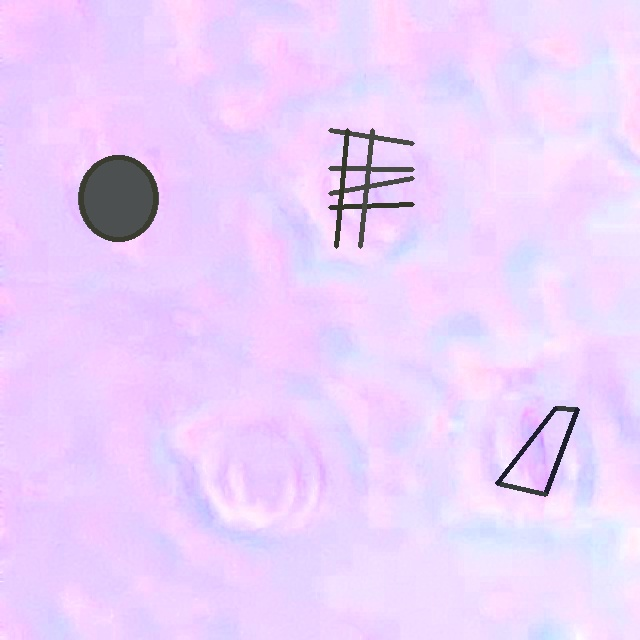open: (329, 129, 414, 248), (495, 406, 579, 496), (78, 155, 159, 240)
